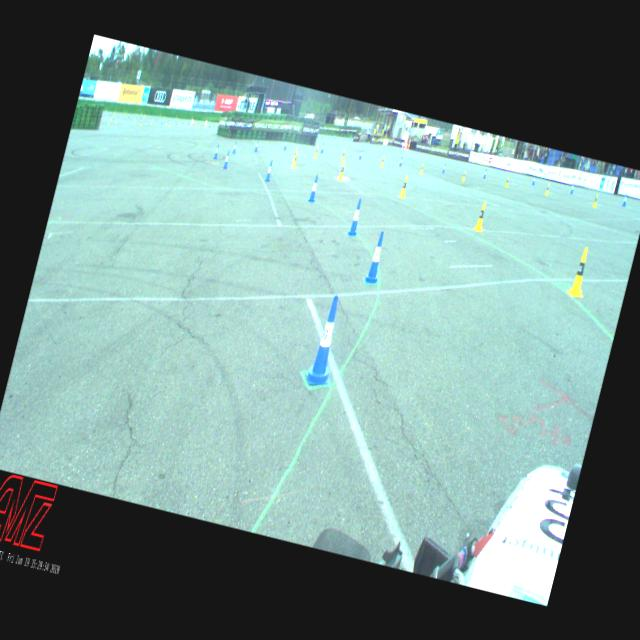blue_cone: (302, 292, 350, 389), (364, 230, 389, 286), (346, 198, 364, 238), (306, 174, 321, 202), (264, 160, 274, 182), (222, 150, 230, 168), (213, 144, 220, 158), (232, 140, 238, 154), (622, 193, 628, 206), (283, 140, 288, 150), (254, 140, 258, 152), (570, 182, 574, 194), (320, 143, 324, 153), (358, 150, 362, 160), (483, 168, 487, 178), (532, 174, 536, 184), (399, 157, 403, 166), (442, 164, 446, 172)
yellow_cone: (566, 246, 594, 298), (474, 200, 488, 232), (399, 175, 409, 198), (338, 161, 346, 180), (292, 151, 298, 167), (292, 147, 298, 161), (314, 144, 320, 158), (592, 193, 598, 207), (544, 182, 550, 195), (340, 148, 346, 160), (380, 156, 384, 167), (505, 176, 509, 187), (420, 163, 424, 173), (462, 170, 466, 180)
